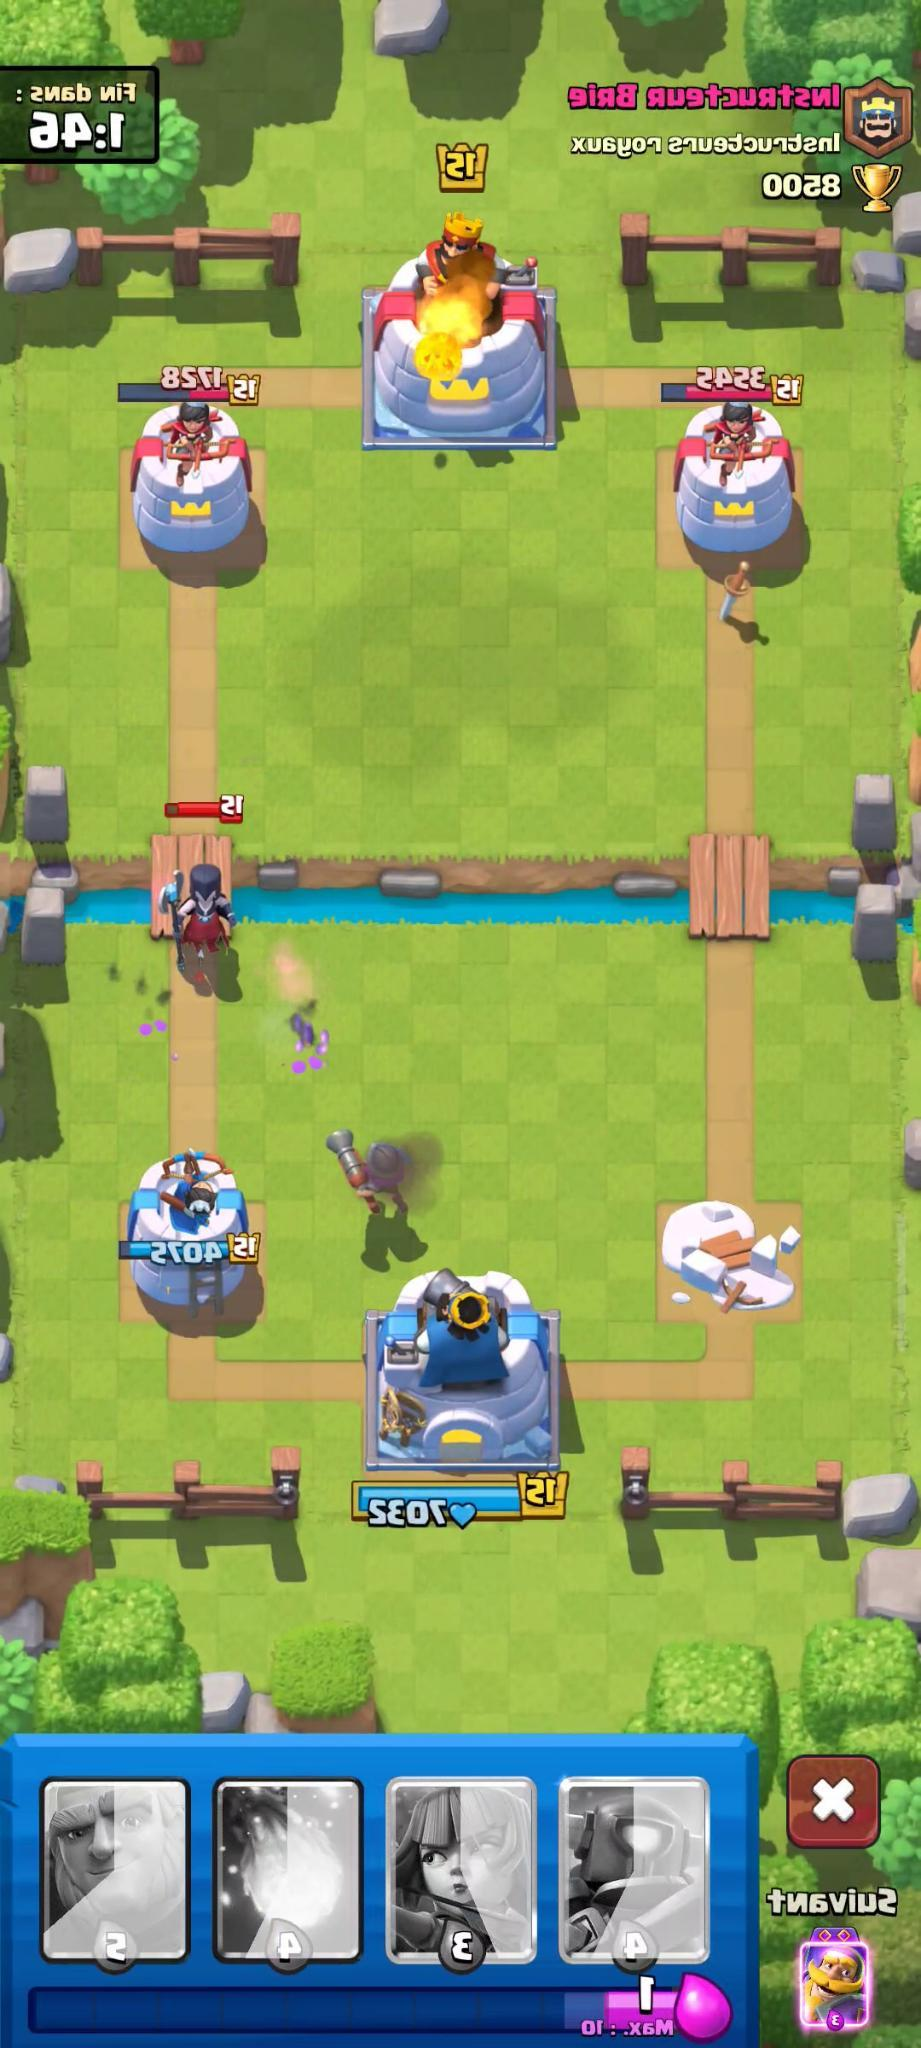enemy_night_witch: (145, 794, 263, 977)
